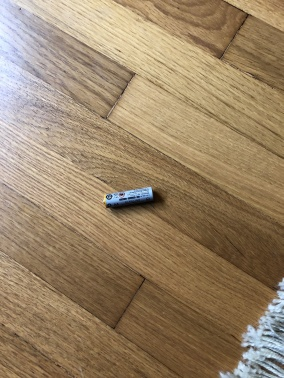battery: (100, 181, 160, 216)
